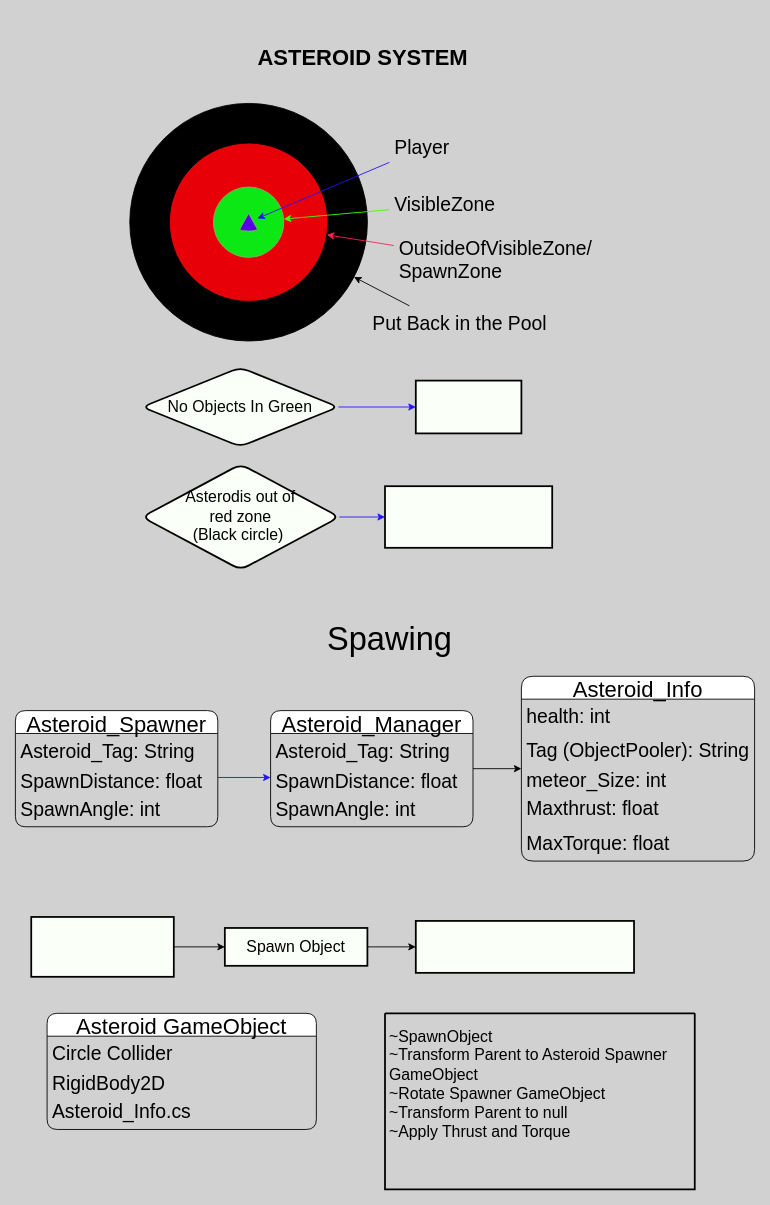
This 770x1205 diagram has some shape labels left out. The centre of each missing label's shape, as x and y in pixels:
"Position(0,Distance,0) Rotation:(0,0,Random(0-360))" goes at point (524, 946).
"Randomly choose Asteroid (Tag)" goes at point (102, 946).
"setActive(False)+ enqueue" goes at point (468, 516).
"Spawn new in red zone" goes at point (468, 406).
